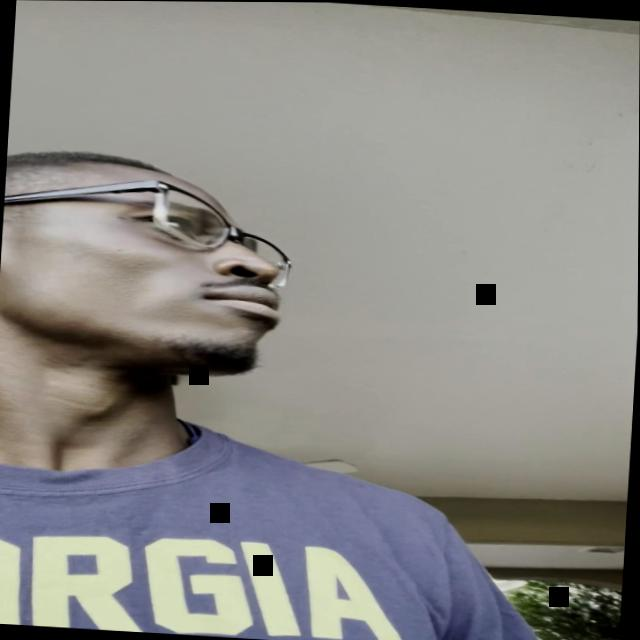NO-Mask: (0, 144, 313, 406)
